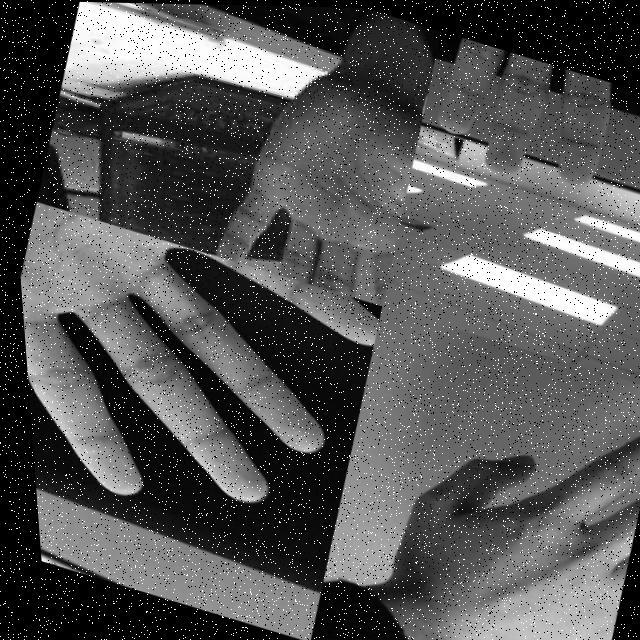no-gloves: (11, 201, 392, 559), (337, 346, 640, 640), (194, 52, 435, 306), (406, 28, 640, 231)
